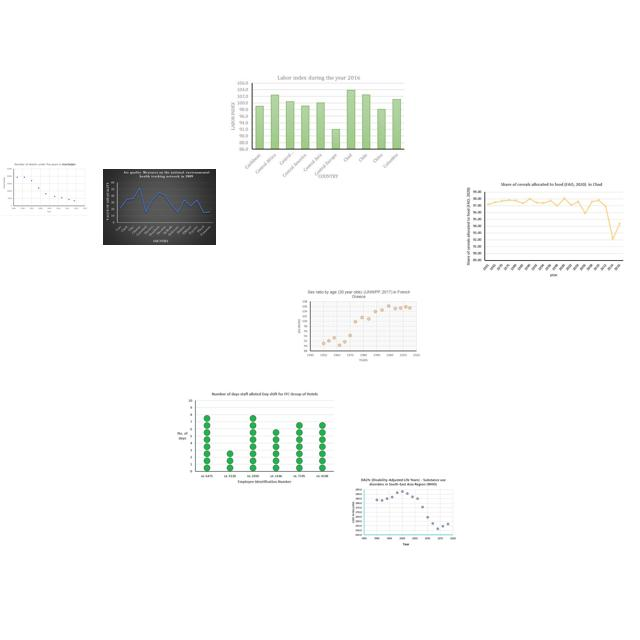Graph: (229, 73, 407, 179), (463, 179, 627, 281), (174, 388, 337, 489), (294, 288, 422, 363), (103, 169, 216, 245), (350, 476, 457, 547), (1, 161, 89, 216)
